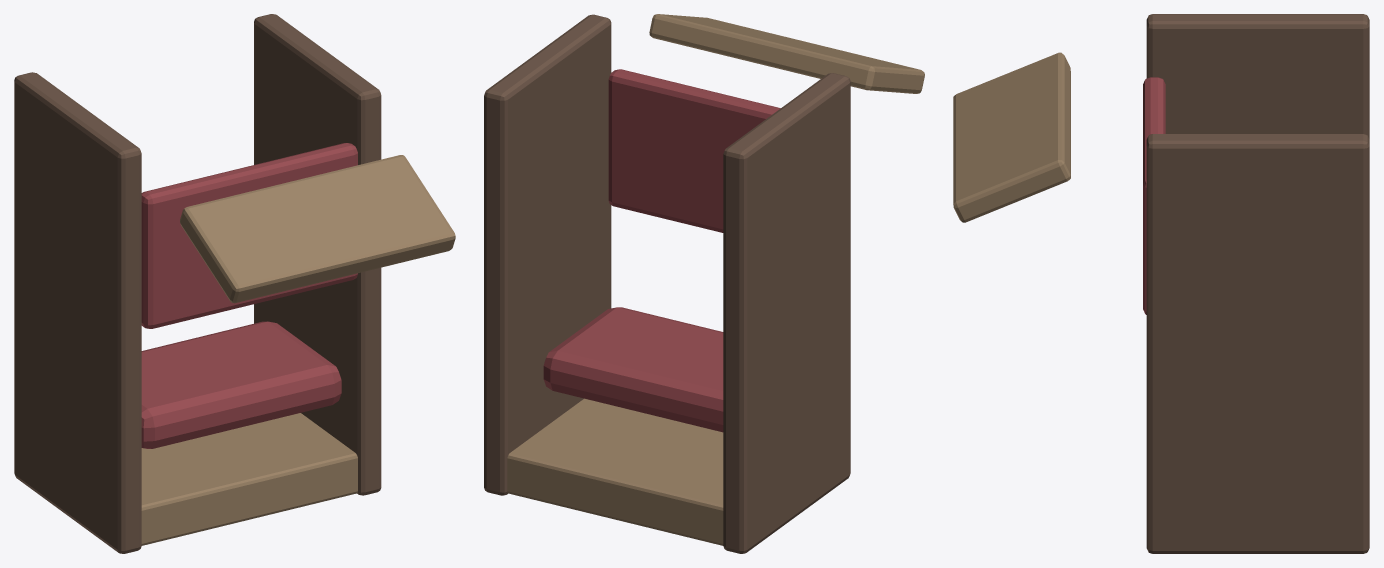
3 renders of one model, left to right at view 1: azimuth 30°, elevation 25°; view 2: azimuth 150°, elevation 25°; view 3: azimuth 270°, elevation 25°, orthographic. The views are drawn at different scales.
Visible parts, largest first — view 1: prayerKneeler; view 2: prayerKneeler; view 3: prayerKneeler.
Boxes of the visible parts, x1=… form: prayerKneeler: x1=14, y1=14, x2=455, y2=553; prayerKneeler: x1=484, y1=14, x2=924, y2=553; prayerKneeler: x1=953, y1=14, x2=1369, y2=553.
Bounding box in the file's own units: 0.615 × 0.9 × 0.8216.
